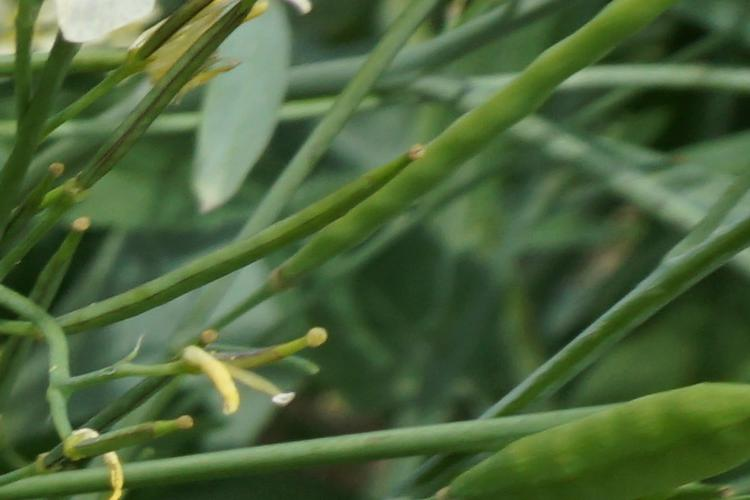pod: (12, 210, 112, 344), (191, 321, 330, 407), (62, 390, 203, 461)
